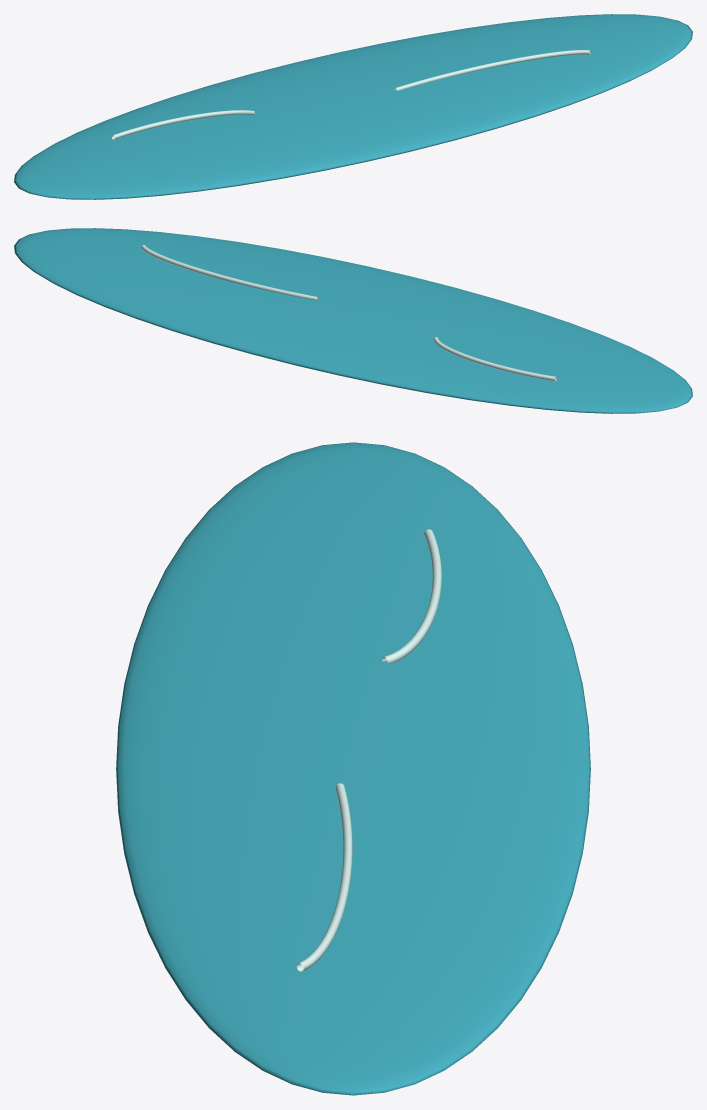
The model's file is material-water-pool.glb.
The picture shows the model from 3 angles, top to bottom: view 1: azimuth 30°, elevation 25°; view 2: azimuth 150°, elevation 25°; view 3: azimuth 270°, elevation 25°; orthographic projection. The views are drawn at different scales.
Visible parts, largest first — view 1: Water volume, Surface reflection_1, Surface reflection_0; view 2: Water volume, Surface reflection_1, Surface reflection_0; view 3: Water volume, Surface reflection_1, Surface reflection_0.
Boxes of the visible parts, x1,y1,x2,y2 form: Water volume: (14, 14, 692, 199); Surface reflection_1: (394, 50, 590, 91); Surface reflection_0: (112, 110, 255, 139); Water volume: (14, 228, 692, 413); Surface reflection_1: (141, 245, 318, 300); Surface reflection_0: (433, 337, 556, 381); Water volume: (116, 442, 590, 1095); Surface reflection_1: (296, 783, 352, 971); Surface reflection_0: (382, 529, 441, 663).
Bounding box in the file's own units: 8.3 × 0.25 × 2.55.
